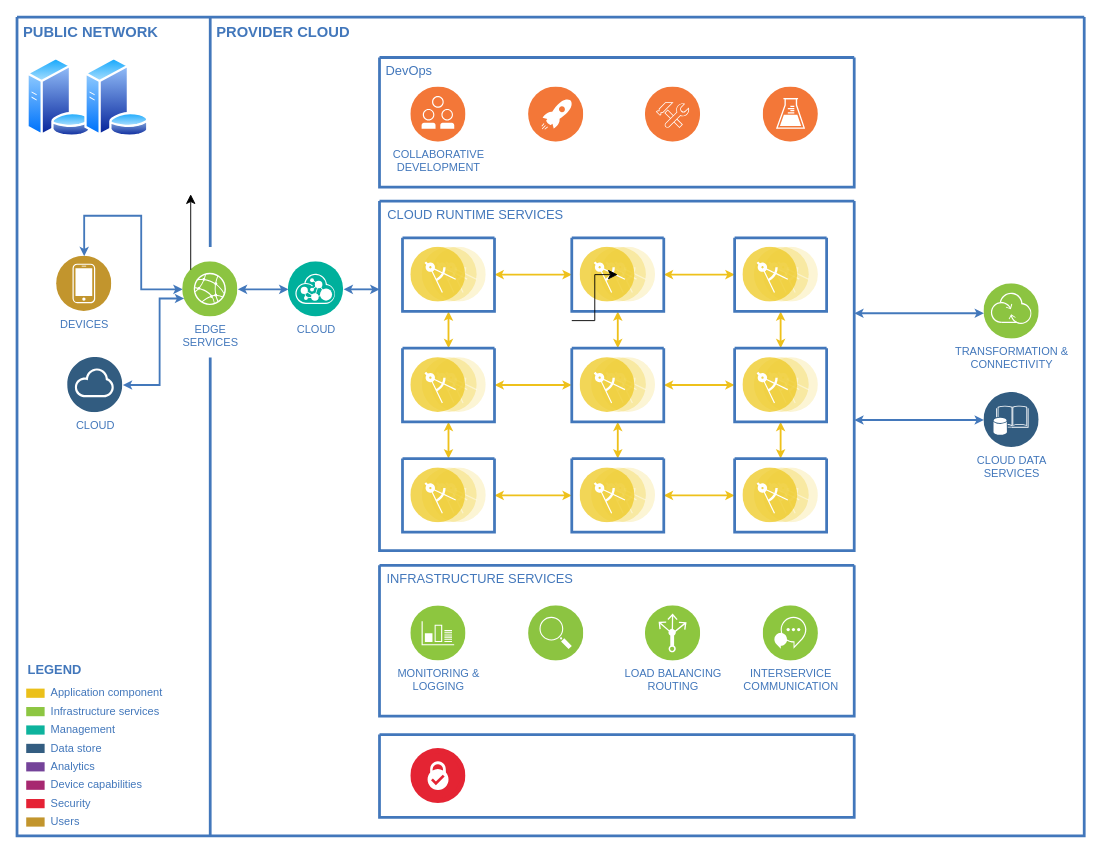
This 1101x853 diagram has some shape labels left out. Each missing label, with the centre of its shape:
"CLOUD SECURITY" goes at point 438,775.
"CONFIGURATION MANAGEMENT" goes at point 672,114.
"CONTINUOUS DEPLOY" goes at point 555,114.
"CONTINUOUS TESTING" goes at point 790,114.
"SERVICE REGISTRATION / DISCOVERY" goes at point 555,633.
